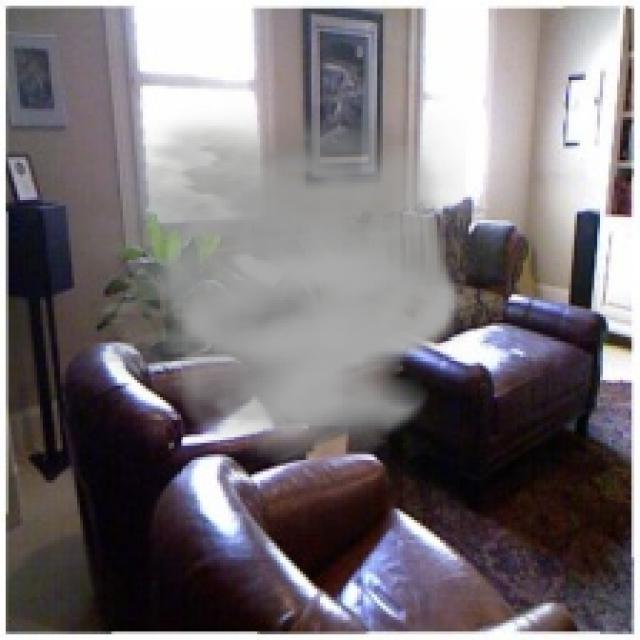smoke: (51, 97, 466, 466)
